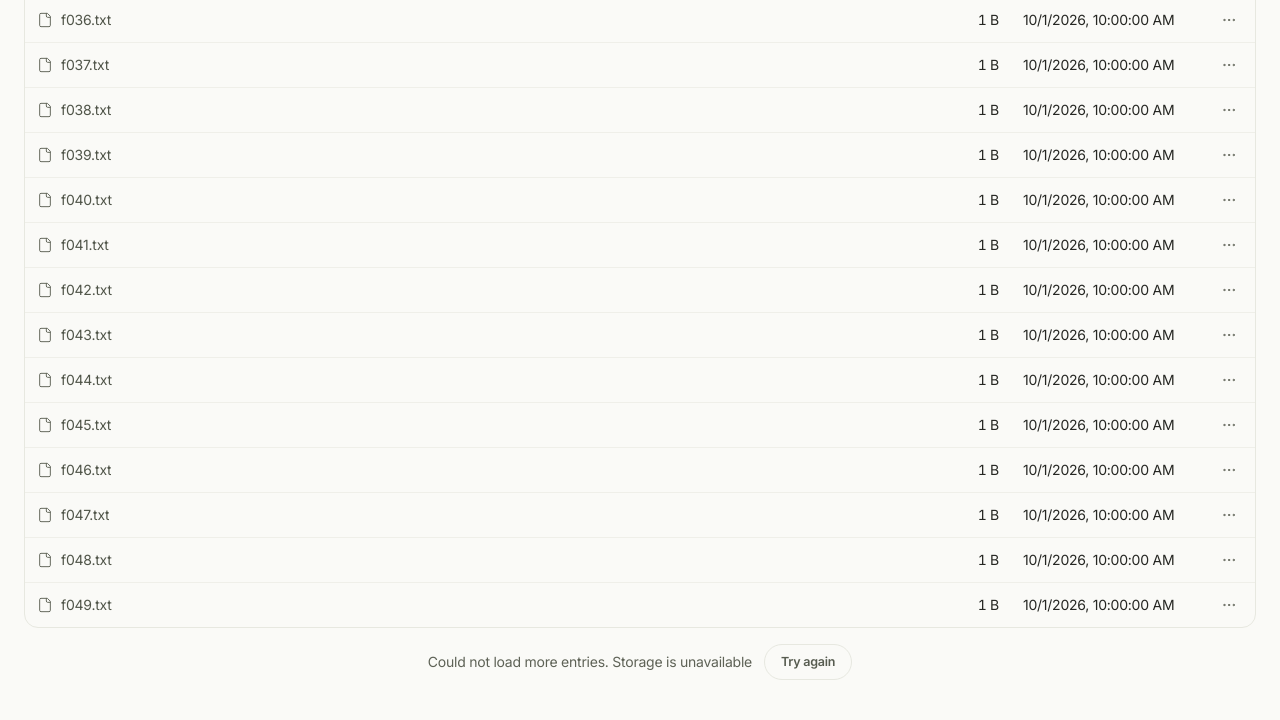
it: Documents view › keeps the loaded rows when a next page fails, and retries it inline
(page scrolled)
Check: the message shows "Could not load more entries. Storage is unavailable", box [428,644,852,680]
What coordinates should you click on to do the following:
click the button "Try again"
I would click on:
 (808, 662)
Its box is [764,644,852,680].
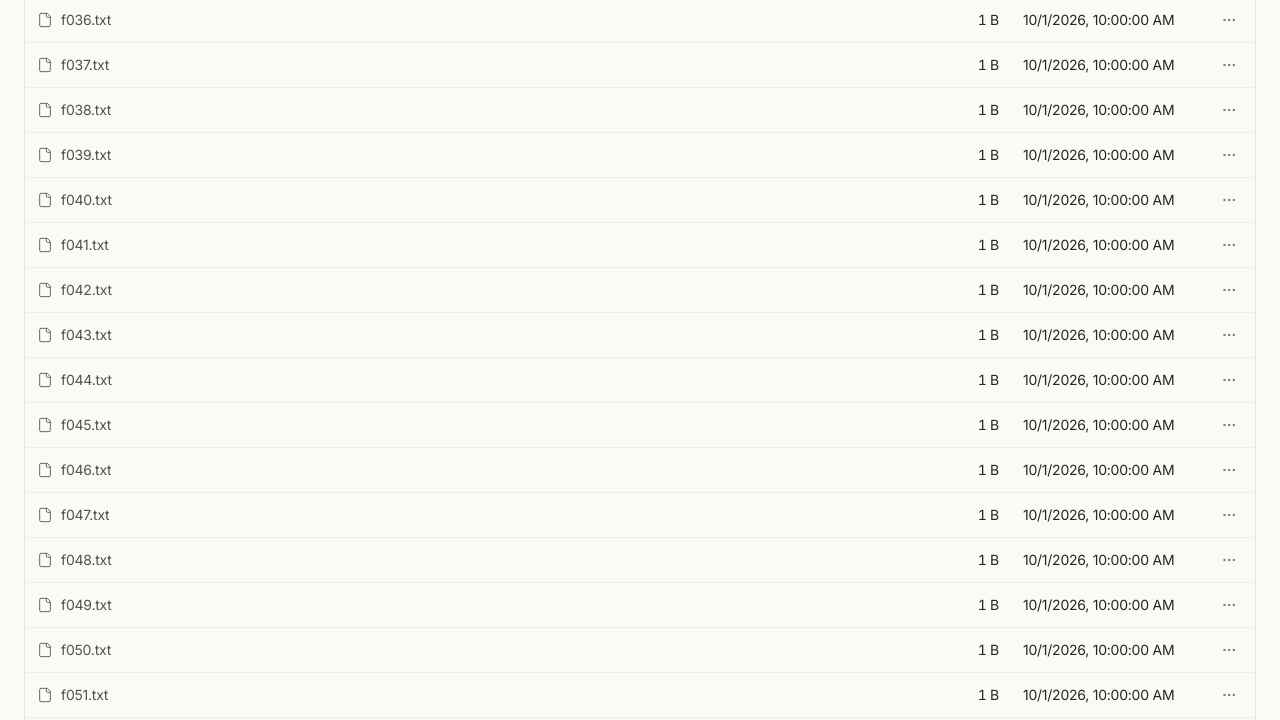
Check: the message "Could not load more entries. Storage is unavailable Try again" is gone
